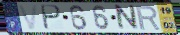6: (69, 4, 88, 31), (91, 5, 110, 30)
N: (115, 4, 140, 32)
P: (41, 4, 64, 31)
R: (134, 5, 162, 31)
V: (17, 5, 39, 31)
